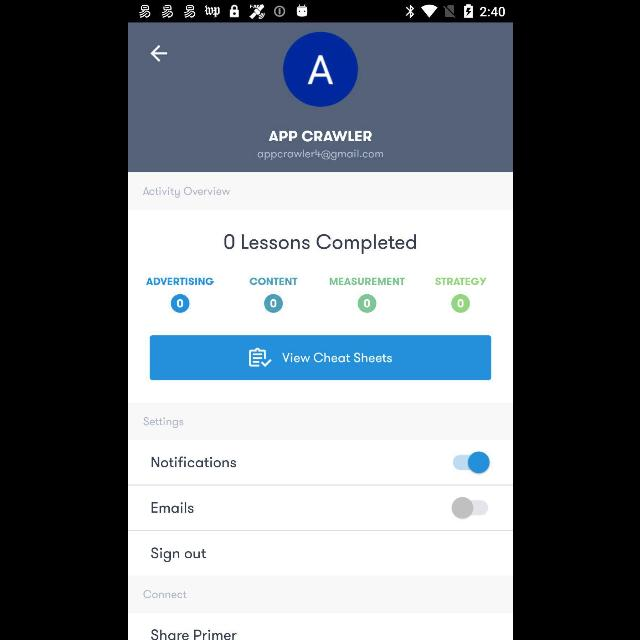icon: (149, 45, 167, 63)
image: (282, 32, 358, 108), (450, 294, 470, 314), (356, 294, 376, 314), (264, 294, 282, 314), (170, 294, 188, 314)
switch: (450, 497, 488, 519), (452, 451, 490, 473)
text: (224, 233, 416, 254), (257, 149, 383, 161), (267, 130, 371, 142), (142, 186, 230, 198), (150, 457, 236, 468), (330, 278, 404, 286), (145, 277, 213, 285), (150, 502, 193, 514), (142, 417, 182, 429), (434, 278, 486, 286), (249, 277, 297, 285), (142, 590, 186, 598)
textbutton: (149, 336, 491, 380), (150, 628, 236, 640), (150, 548, 206, 562)
uppertaskbar: (128, 1, 512, 23)
